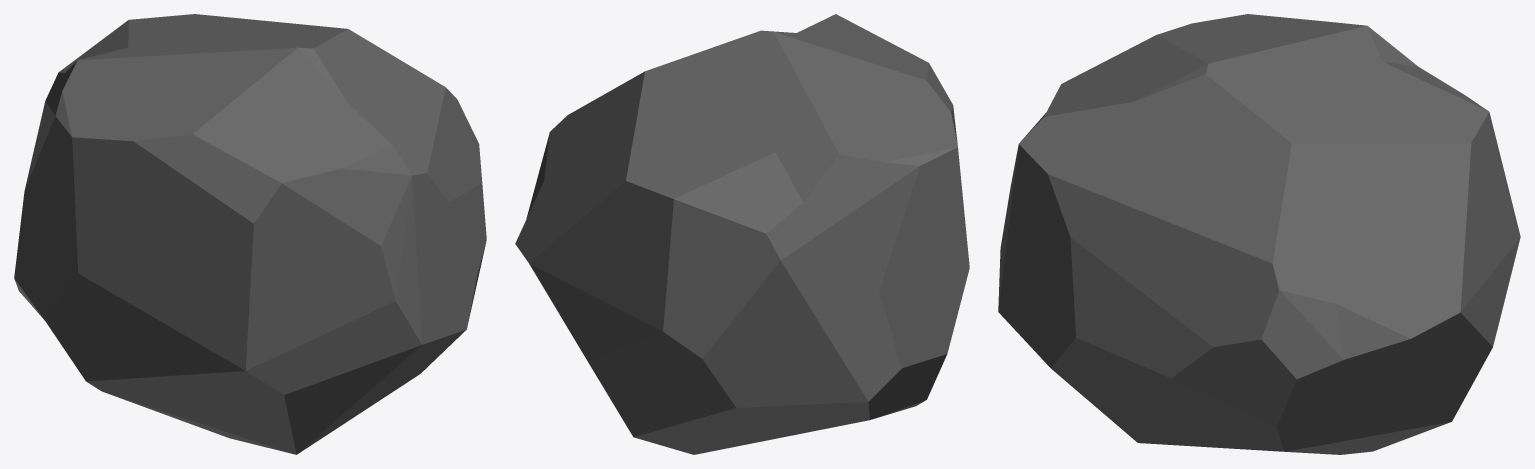
Rendered from Wh_Rock_Small_02.fbx.
3 renders of one model, left to right at view 1: azimuth 30°, elevation 25°; view 2: azimuth 150°, elevation 25°; view 3: azimuth 270°, elevation 25°, orthographic. The views are drawn at different scales.
Visible parts, largest first — view 1: LowPolyRock.016; view 2: LowPolyRock.016; view 3: LowPolyRock.016.
Part boxes in pixels (x1,y1,x2,y2): LowPolyRock.016: [14, 14, 486, 454]; LowPolyRock.016: [515, 14, 969, 454]; LowPolyRock.016: [998, 14, 1520, 454].
Bounding box in the file's own units: 284 × 239 × 293.
